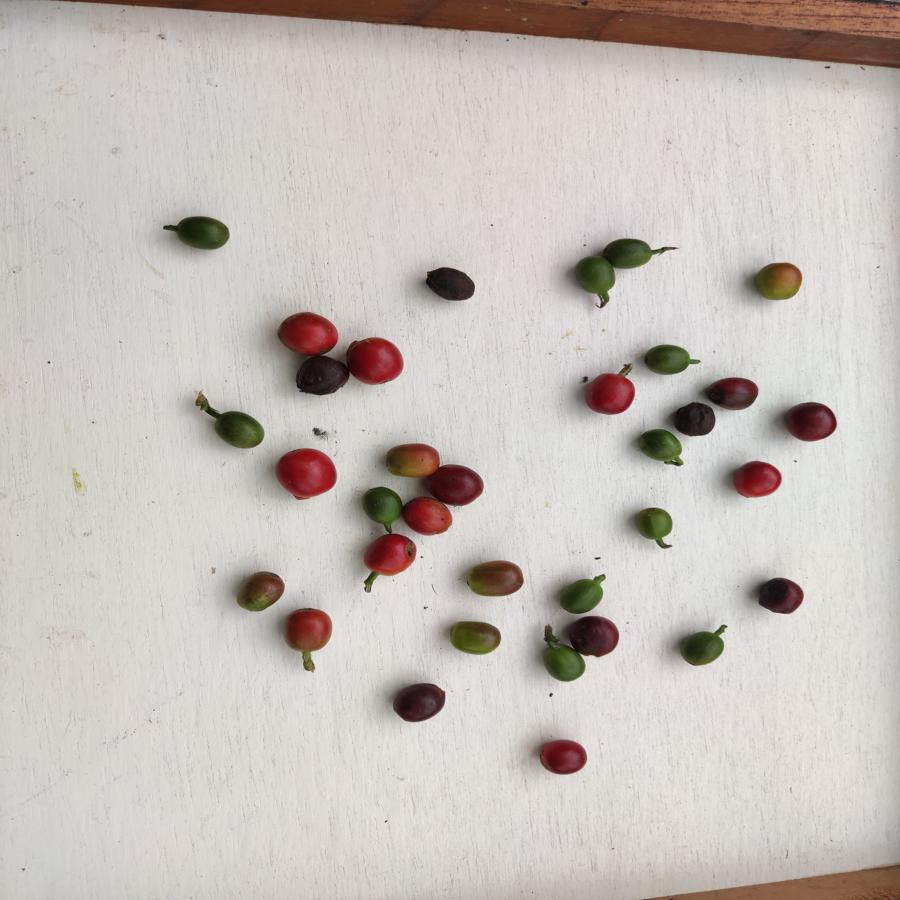Inmaduro: (538, 639, 587, 683), (174, 215, 234, 250), (634, 427, 689, 465), (556, 573, 605, 615), (219, 412, 267, 453), (604, 233, 659, 268), (575, 255, 620, 296), (682, 630, 728, 669), (643, 343, 691, 378), (635, 505, 674, 546), (365, 483, 402, 526)
Maduro: (273, 448, 344, 496), (349, 332, 406, 386), (278, 310, 339, 357), (285, 605, 337, 653), (587, 371, 641, 417), (363, 532, 417, 577), (731, 458, 784, 501), (404, 495, 453, 540)
Pinton: (466, 558, 525, 602), (753, 258, 804, 304), (383, 439, 442, 477), (448, 619, 504, 658), (237, 570, 282, 611)
Sobremaduro: (392, 681, 448, 724), (783, 402, 842, 442), (422, 265, 480, 305), (569, 612, 620, 657), (756, 575, 808, 617), (436, 464, 486, 507), (293, 357, 349, 395), (704, 374, 758, 411), (538, 739, 590, 775), (673, 401, 719, 435)
